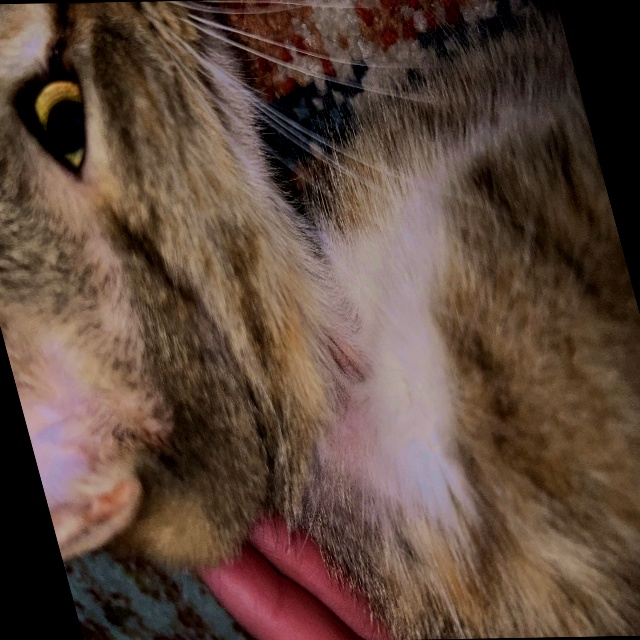hairloss: (276, 309, 411, 517)
